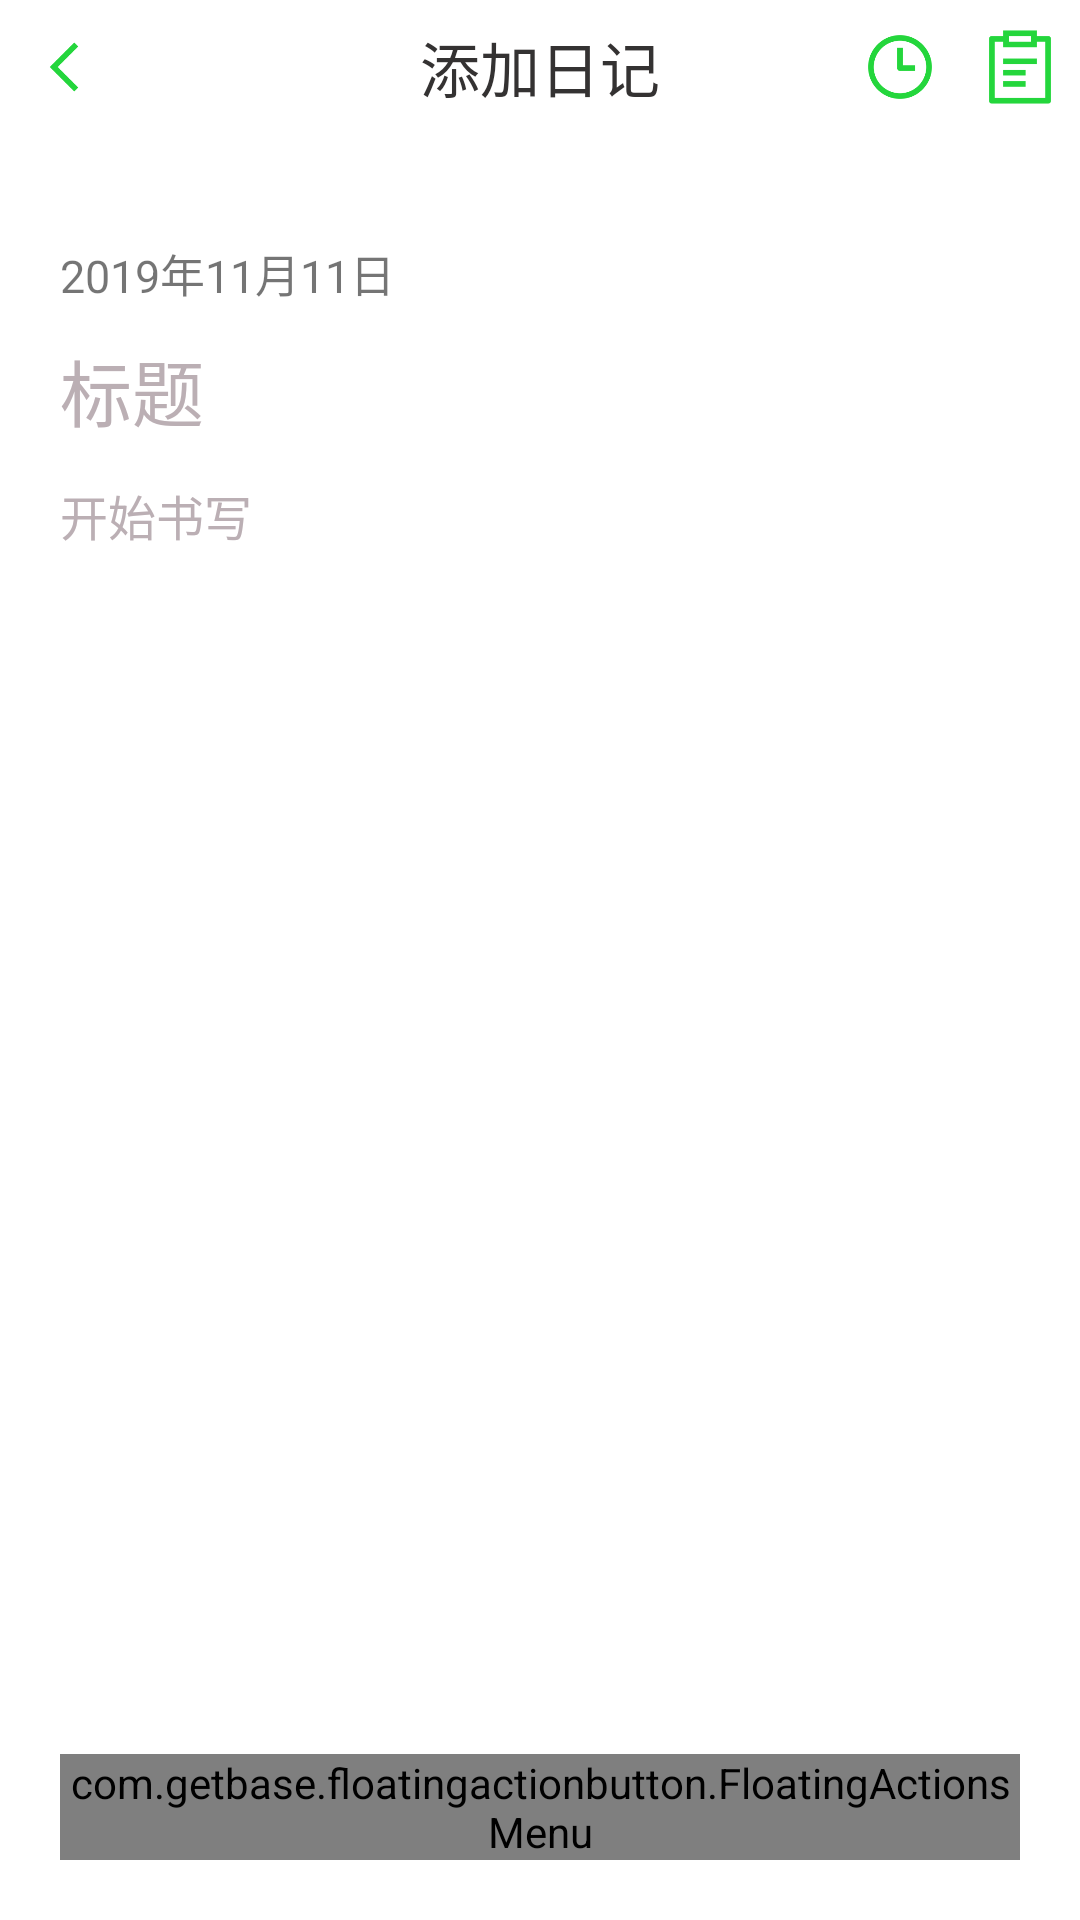

Where icons sit on this 1080 × 1920 app screen, as (x1, y1, x2, y2):
arrow left: (50, 42, 78, 92)
clock: (868, 35, 932, 99)
